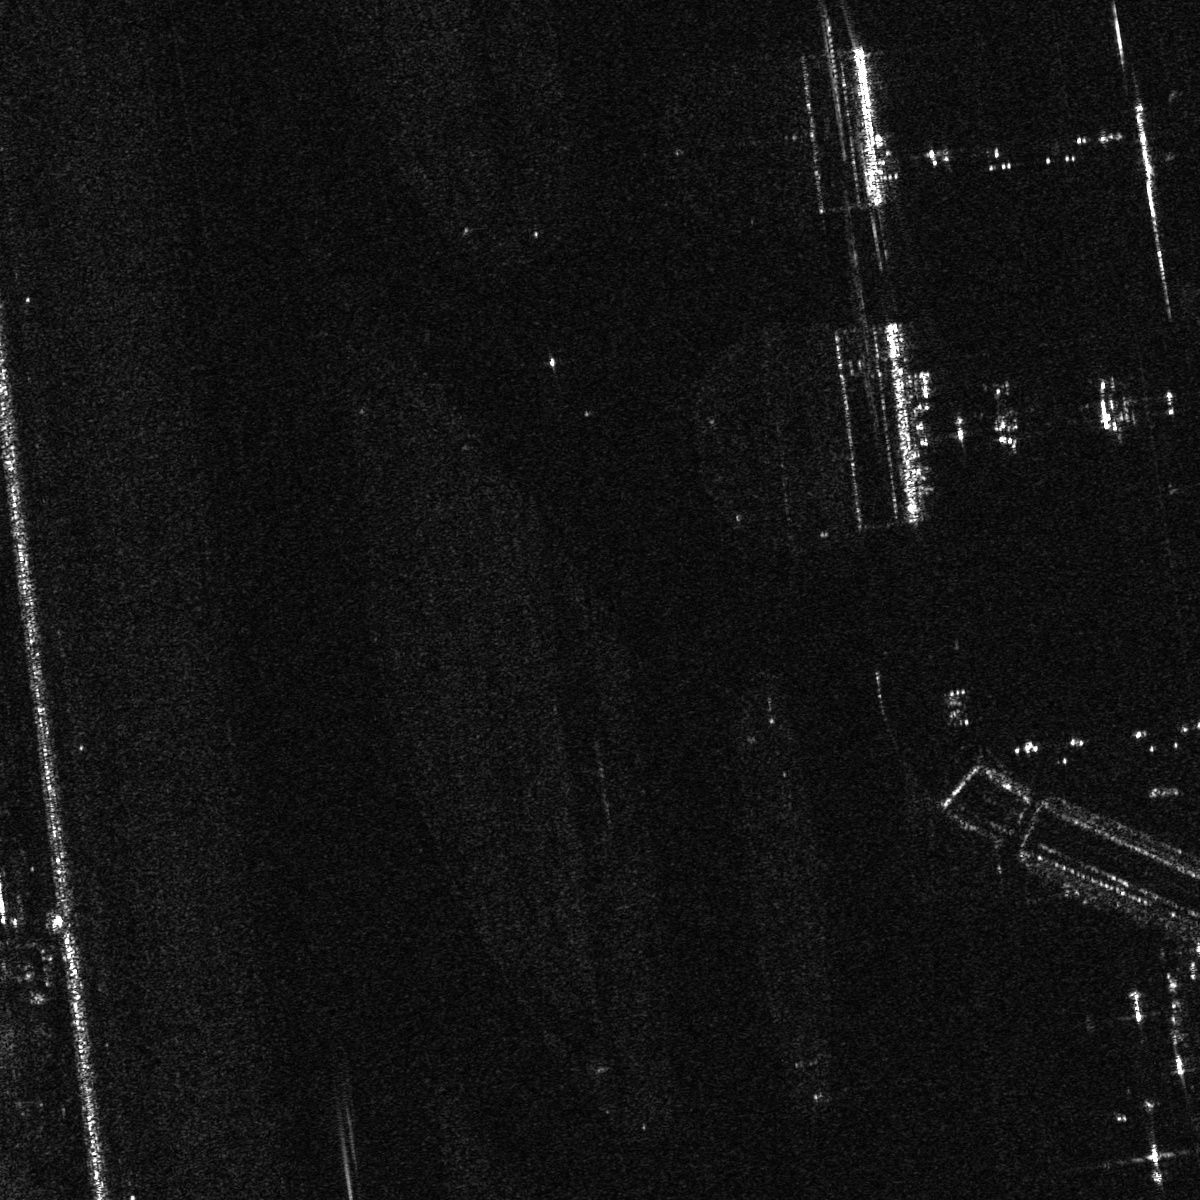A220: (973, 379, 1037, 452)
